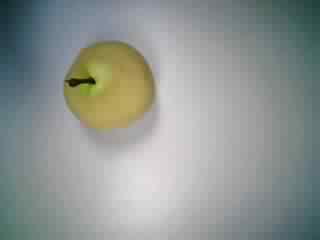pear: (57, 30, 162, 138)
